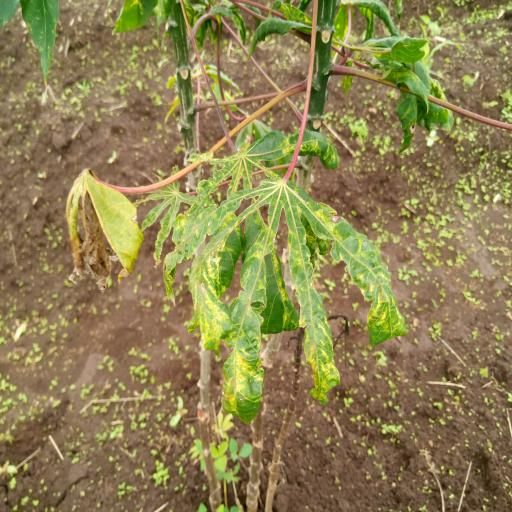Cassava_Mosaic: (180, 171, 408, 405), (64, 169, 145, 291)
